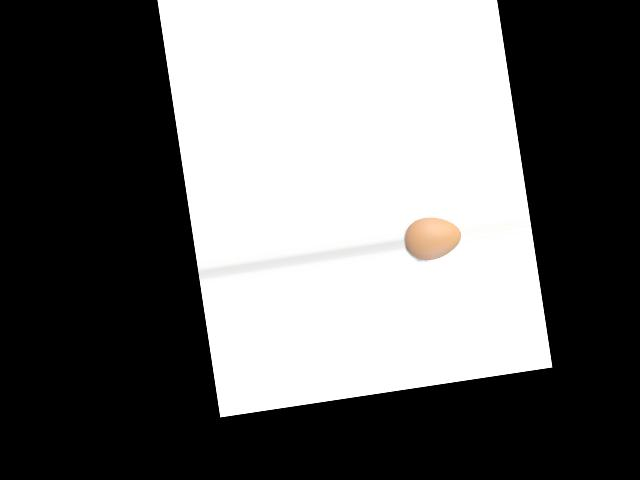egg: (401, 213, 463, 263)
